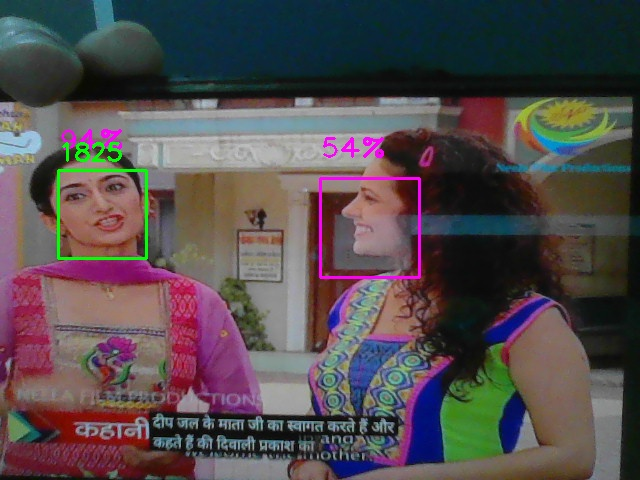fake: (58, 170, 147, 259)
